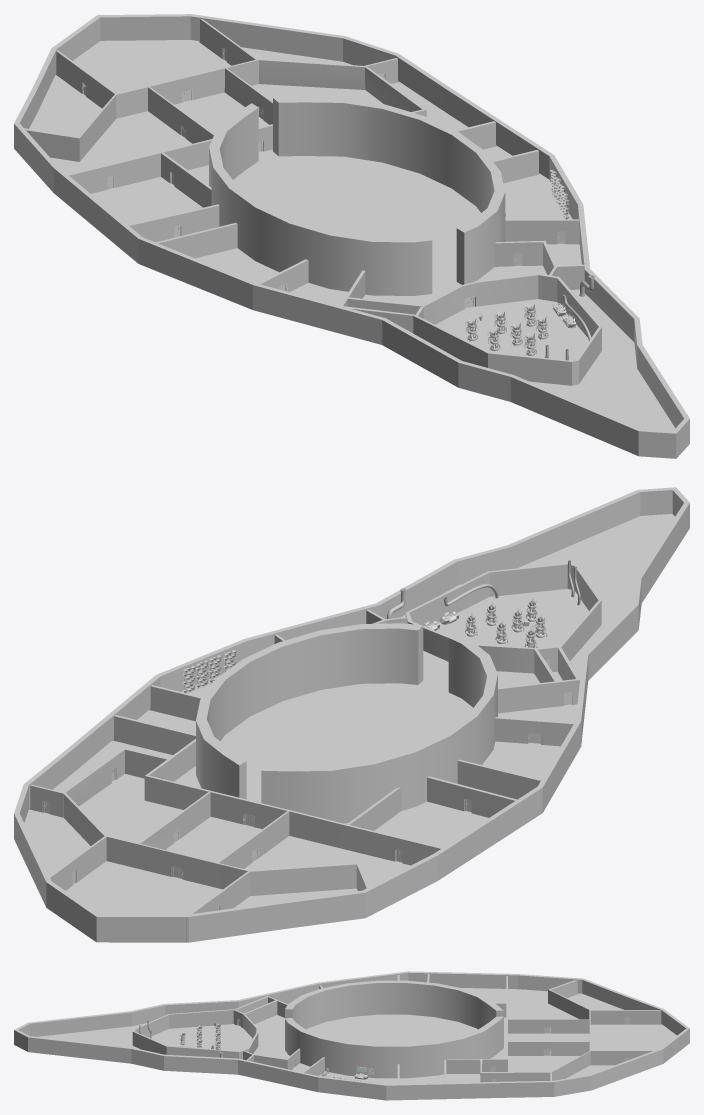
The model's file is Nave_01.fbx.
3 renders of one model, top to bottom at view 1: azimuth 30°, elevation 25°; view 2: azimuth 150°, elevation 25°; view 3: azimuth 270°, elevation 25°, orthographic. The views are drawn at different scales.
Visible parts, largest first — view 1: geo_Piso, geo_Paredes00, Cylinder.002, geo_MarcoDoor02_06, geo_MarcoDoor02_06.001, Plane.010, geo_MarcoDoor02_10.001, geo_MarcoDoor02_04, Plane.007, geo_MarcoDoor02_04.001, geo_MarcoDoor01_05; view 2: geo_Piso, geo_Paredes00, Cylinder.002, geo_MarcoDoor02_06, geo_MarcoDoor02_06.001, geo_MarcoDoor02_10.001, Plane.007, geo_MarcoDoor01_05, geo_MarcoDoor02_04.001, geo_MarcoDoor02_05; view 3: geo_Paredes00, geo_Piso, Cylinder.002, geo_MarcoDoor02_06, geo_MarcoDoor02_06.001, Plane.010, geo_MarcoDoor02_04.
Part boxes in pixels (box(x1,y1,x2,y2)): geo_Piso: box(29, 40, 675, 431); geo_Paredes00: box(14, 14, 689, 458); Cylinder.002: box(209, 97, 505, 295); geo_MarcoDoor02_06: box(24, 19, 497, 207); geo_MarcoDoor02_06.001: box(341, 270, 601, 385); Plane.010: box(494, 240, 584, 289); geo_MarcoDoor02_10.001: box(128, 204, 219, 242); geo_MarcoDoor02_04: box(505, 219, 579, 244); Plane.007: box(156, 223, 237, 258); geo_MarcoDoor02_04.001: box(492, 150, 539, 183); geo_MarcoDoor01_05: box(257, 259, 308, 292); geo_Piso: box(24, 514, 674, 914); geo_Paredes00: box(14, 487, 689, 942); Cylinder.002: box(196, 623, 497, 823); geo_MarcoDoor02_06: box(49, 715, 442, 942); geo_MarcoDoor02_06.001: box(405, 563, 601, 713); geo_MarcoDoor02_10.001: box(427, 776, 516, 817); Plane.007: box(457, 759, 541, 799); geo_MarcoDoor01_05: box(495, 717, 574, 746); geo_MarcoDoor02_04.001: box(149, 685, 201, 721); geo_MarcoDoor02_05: box(29, 784, 63, 817); geo_Paredes00: box(14, 971, 689, 1100); geo_Piso: box(37, 988, 676, 1084); Cylinder.002: box(285, 980, 503, 1078); geo_MarcoDoor02_06: box(444, 976, 661, 1082); geo_MarcoDoor02_06.001: box(132, 996, 287, 1059); Plane.010: box(243, 1048, 300, 1069); geo_MarcoDoor02_04: box(302, 1057, 324, 1075).
Bounding box in the file's own units: 15682 × 2247 × 39200.
